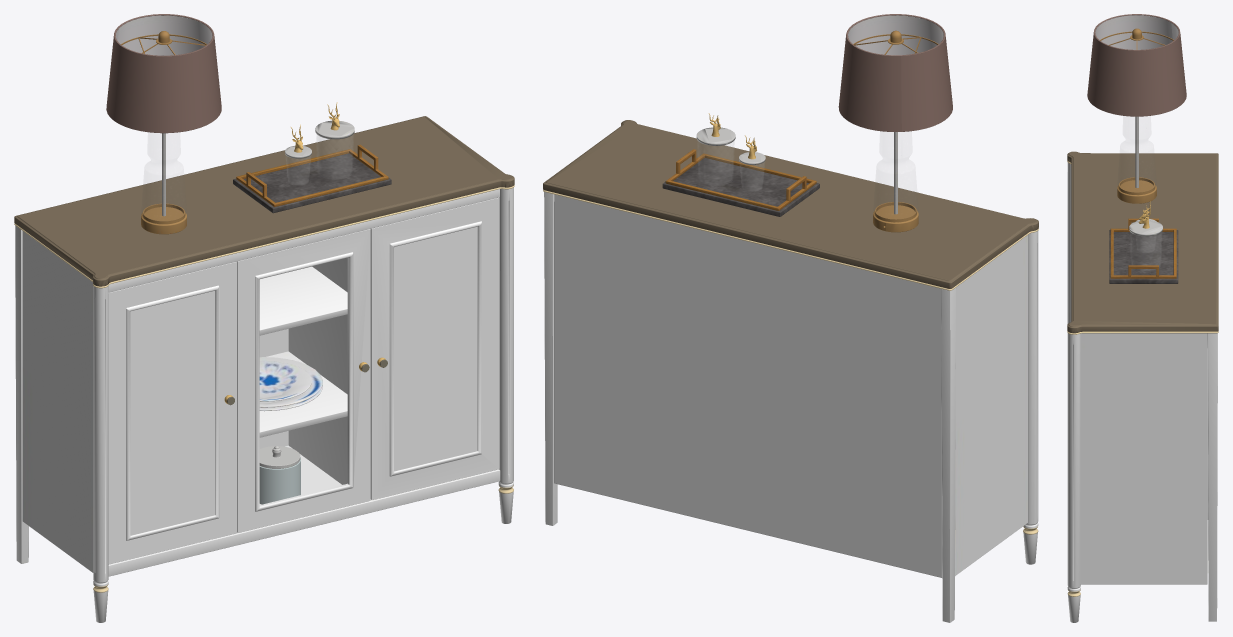
Rendered from european-style-dining-cabinet.glb.
3 views of the same model, side by side, from view 1: azimuth 30°, elevation 25°; view 2: azimuth 150°, elevation 25°; view 3: azimuth 270°, elevation 25° (orthographic). The views are drawn at different scales.
Parts seen in each view (by area): view 1: Shelf.1, subscattering; view 2: Shelf.1, subscattering; view 3: Shelf.1, subscattering.
Boxes of the visible parts, box(x1,y1,x2,y2) form: Shelf.1: box(14, 14, 514, 622); subscattering: box(106, 15, 221, 132); Shelf.1: box(543, 14, 1038, 622); subscattering: box(838, 15, 952, 131); Shelf.1: box(1067, 14, 1218, 622); subscattering: box(1087, 15, 1186, 116).
Bounding box in the file's own units: 1.36 × 1.67 × 0.495.
Materials: 2 (2 with a texture image).
